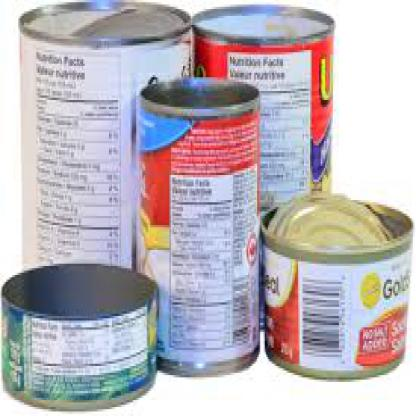METAL: (18, 0, 190, 278), (138, 75, 260, 375), (257, 193, 412, 382), (192, 5, 331, 196), (0, 261, 158, 407)
